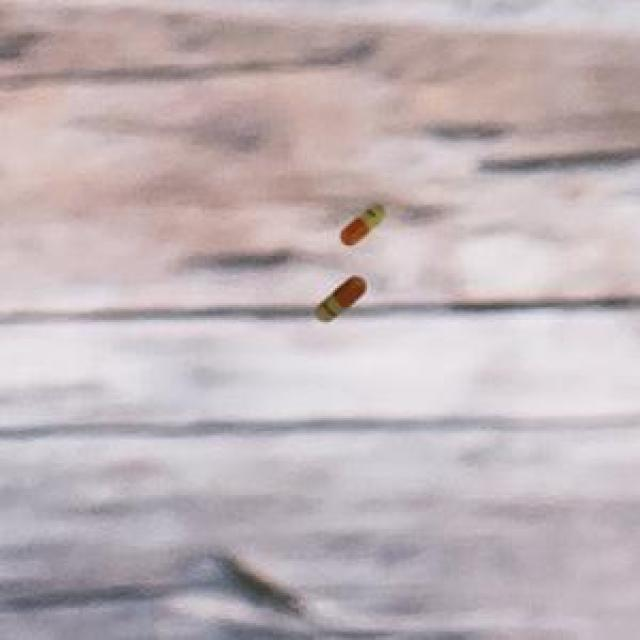Alaxan: (299, 268, 373, 332), (334, 196, 395, 254)
